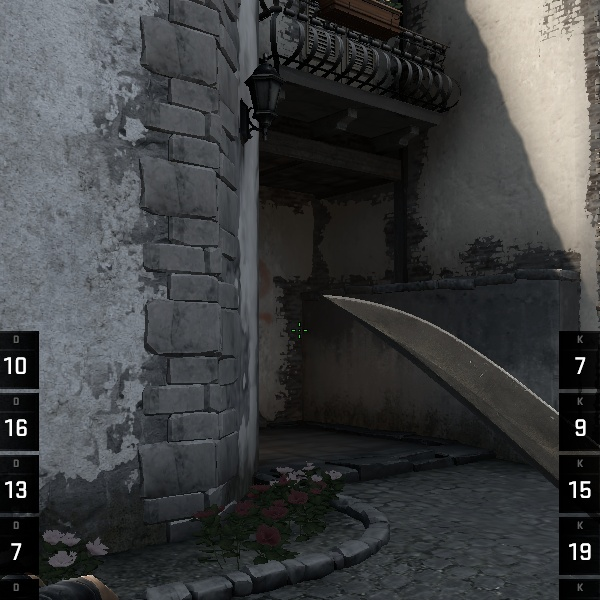ct_body: (175, 11, 574, 525)
